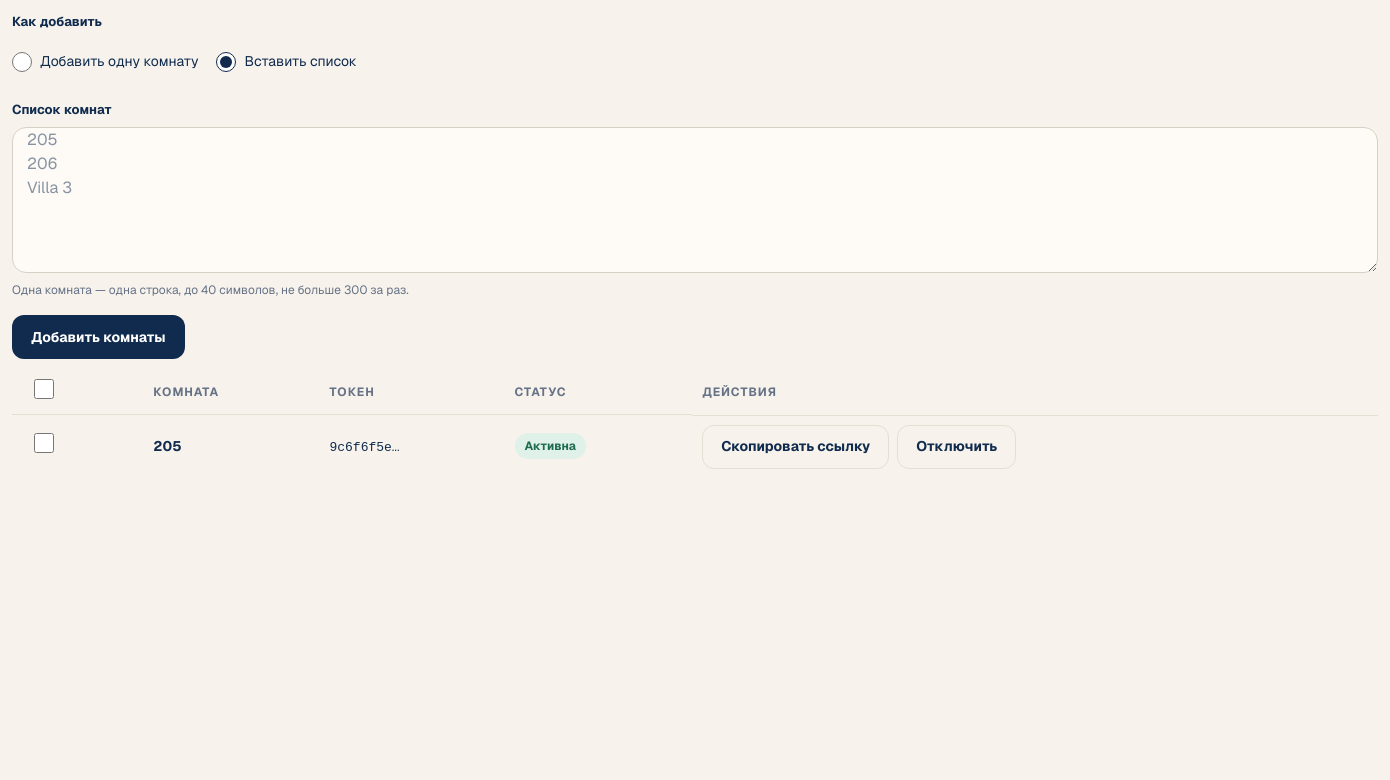
Test: RoomEditor › reports a clipboard failure
The width and height of the screenshot is (1390, 780).
Click the button with aria-label "Скопировать ссылку для 205". click: (796, 446)
box: [702,424,889,468]
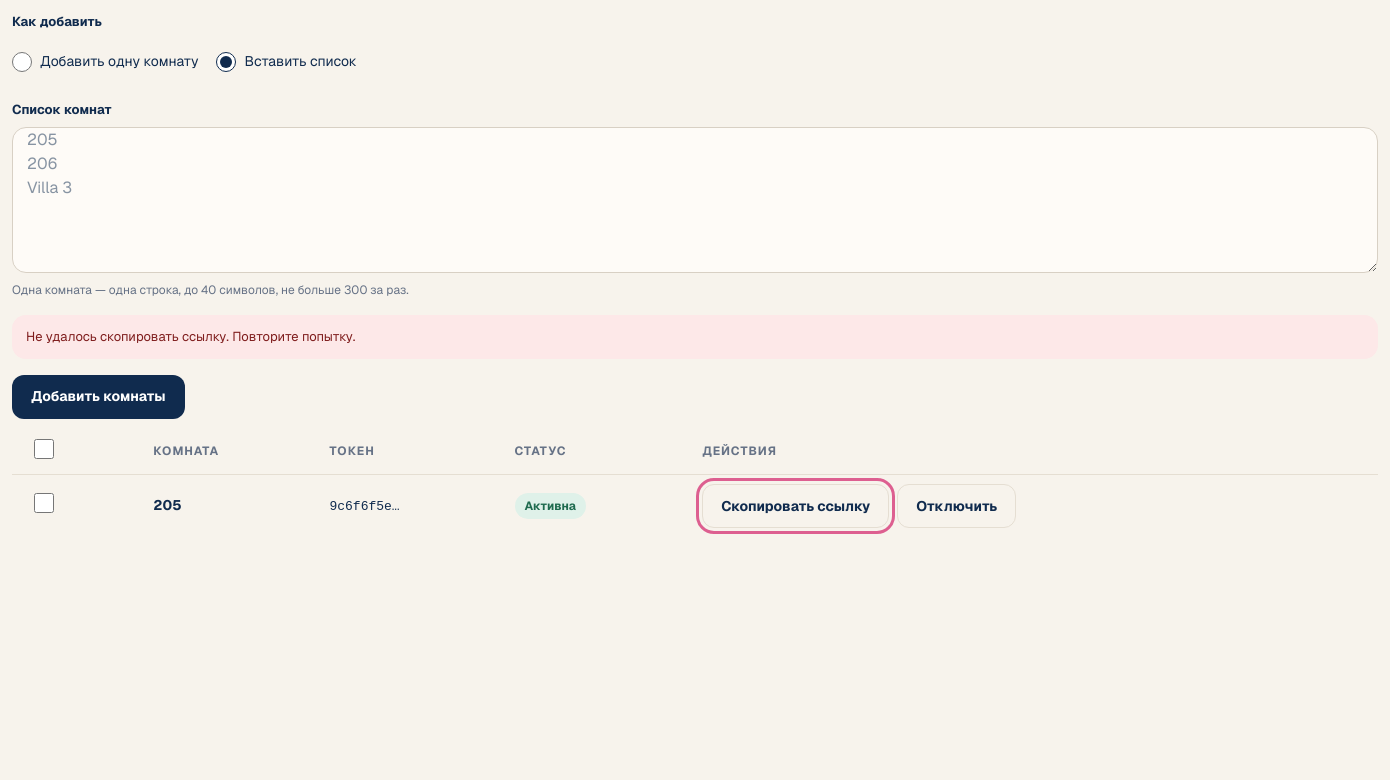
Expected: the message reads "Не удалось скопировать ссылку. Повторите попытку.", [26,328,355,345]
